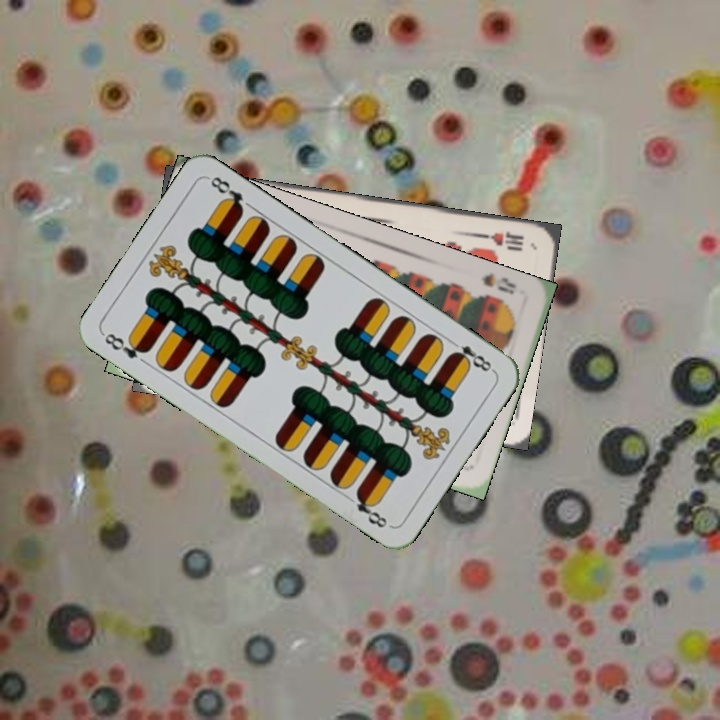E8: (445, 335, 497, 375), (99, 329, 152, 362)
H10: (473, 227, 527, 253)
S8: (477, 268, 519, 297)
